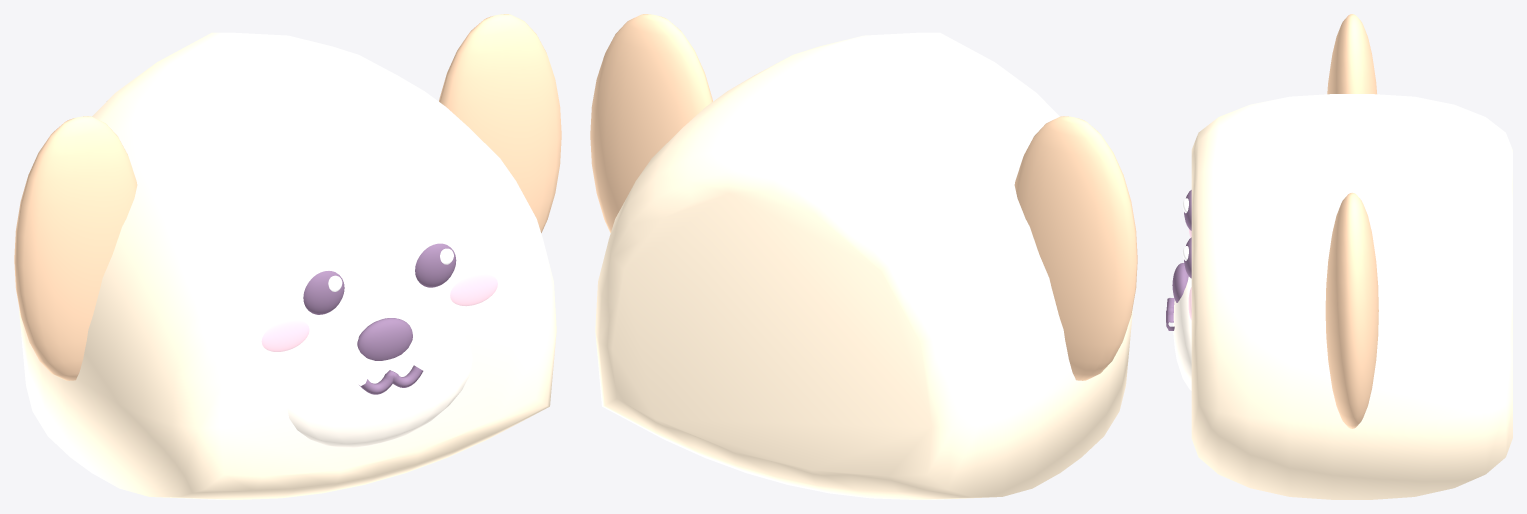
The model's file is squishy_puppy.glb.
3 views of the same model, side by side, from view 1: azimuth 30°, elevation 25°; view 2: azimuth 150°, elevation 25°; view 3: azimuth 270°, elevation 25° (orthographic). The views are drawn at different scales.
Visible parts, largest first — view 1: puppy; view 2: puppy; view 3: puppy.
Boxes of the visible parts, x1,y1,x2,y2 form: puppy: (14, 14, 561, 499); puppy: (590, 14, 1137, 499); puppy: (1166, 14, 1512, 499).
Size of the model in its own units: 1.46 by 1 by 0.9226.
